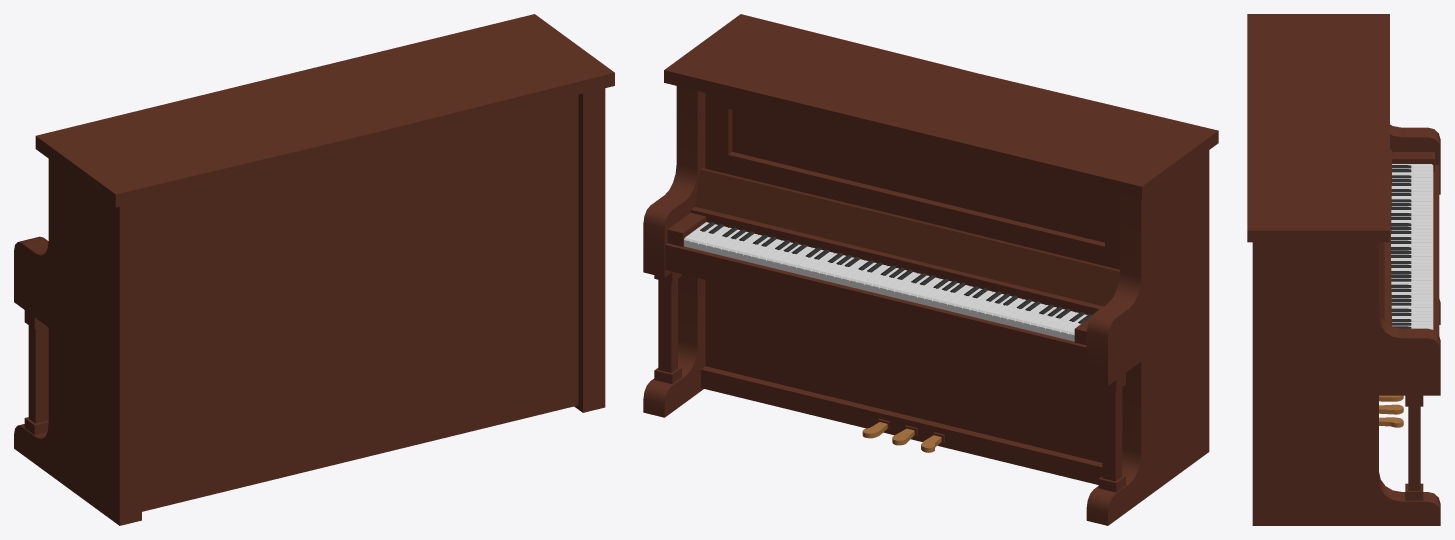
Rendered from Piano_01.fbx.
The picture shows the model from 3 angles, left to right: view 1: azimuth 30°, elevation 25°; view 2: azimuth 150°, elevation 25°; view 3: azimuth 270°, elevation 25°; orthographic projection. The views are drawn at different scales.
Visible parts, largest first — view 1: Piano_01; view 2: Piano_01; view 3: Piano_01.
Boxes of the visible parts, left/top/right/bottom form: Piano_01: left=14, top=14, right=614, bottom=525; Piano_01: left=643, top=14, right=1218, bottom=525; Piano_01: left=1247, top=14, right=1440, bottom=525.
Bounding box in the file's own units: 2.07 × 1.33 × 0.7816.
